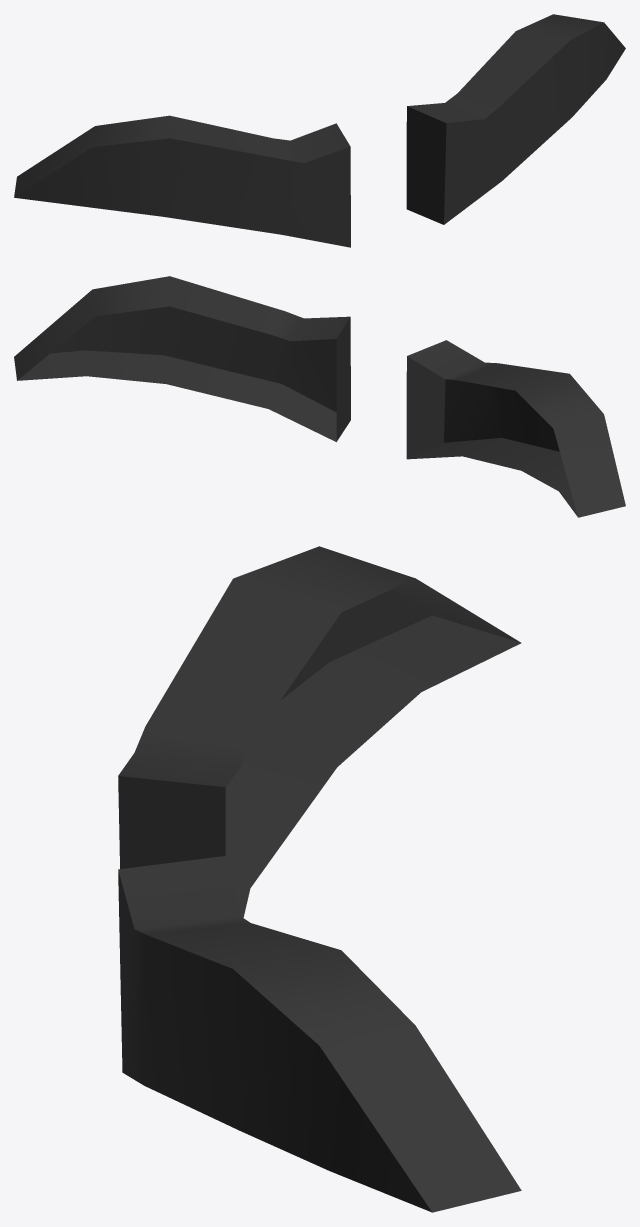
The model's file is Brow_Black_5.fbx.
The picture shows the model from 3 angles, top to bottom: view 1: azimuth 30°, elevation 25°; view 2: azimuth 150°, elevation 25°; view 3: azimuth 270°, elevation 25°; orthographic projection. The views are drawn at different scales.
Visible parts, largest first — view 1: Brow_Black_5; view 2: Brow_Black_5; view 3: Brow_Black_5.
Part boxes in pixels (x1,y1,x2,y2): Brow_Black_5: (14,14,625,247); Brow_Black_5: (14,276,625,517); Brow_Black_5: (118,546,521,1212).
Size of the model in its own units: 41.99 by 8.34 by 11.99.
